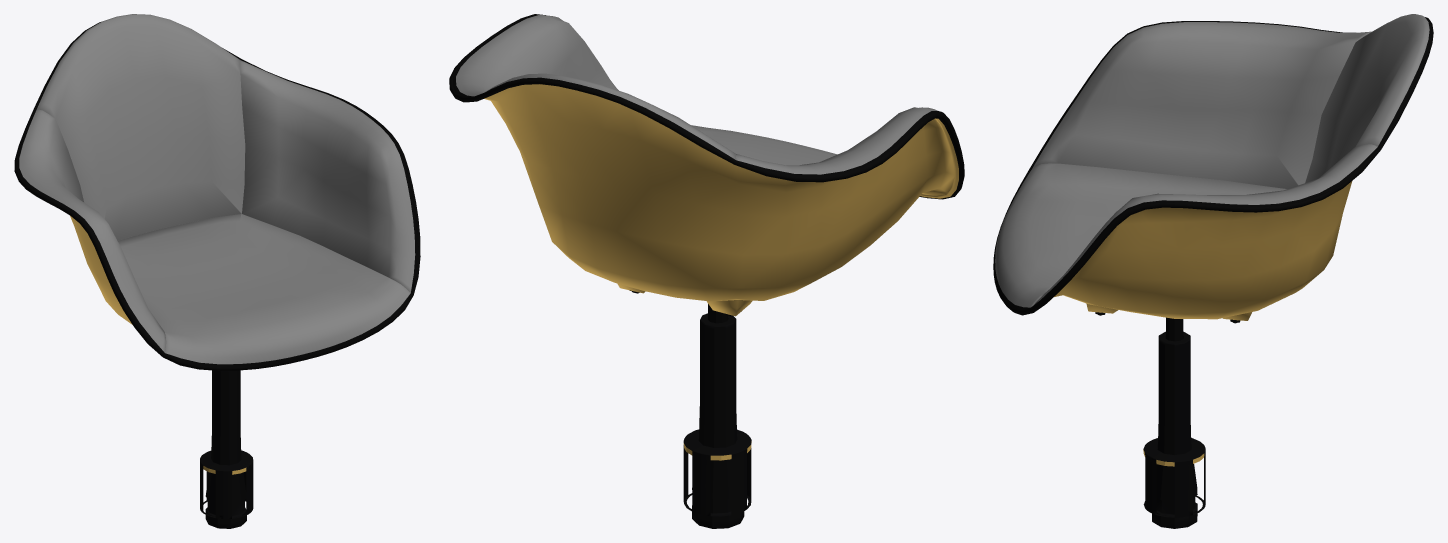
Rendered from chair.FBX.
3 renders of one model, left to right at view 1: azimuth 30°, elevation 25°; view 2: azimuth 150°, elevation 25°; view 3: azimuth 270°, elevation 25°, orthographic. The views are drawn at different scales.
Visible parts, largest first — view 1: Eames Plastic Armchair PACC Swivel Chair Vitra; view 2: Eames Plastic Armchair PACC Swivel Chair Vitra; view 3: Eames Plastic Armchair PACC Swivel Chair Vitra.
Part boxes in pixels (bbox=[...]): Eames Plastic Armchair PACC Swivel Chair Vitra: bbox=[14, 14, 420, 528]; Eames Plastic Armchair PACC Swivel Chair Vitra: bbox=[449, 14, 964, 528]; Eames Plastic Armchair PACC Swivel Chair Vitra: bbox=[993, 14, 1433, 528].
Size of the model in its own units: 64.28 by 78.7 by 63.94.
